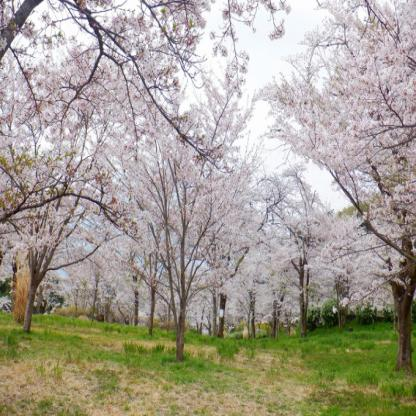Someiyoshino: (1, 1, 415, 303)
